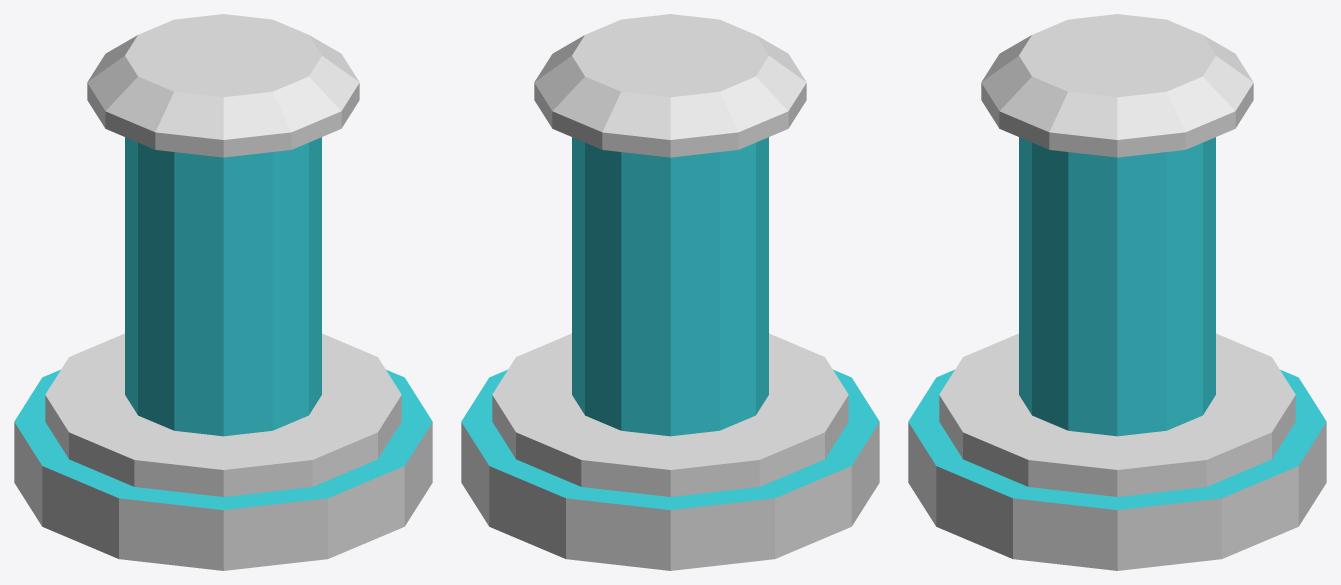
Rendered from Shoot Button.fbx.
The picture shows the model from 3 angles, left to right: view 1: azimuth 30°, elevation 25°; view 2: azimuth 150°, elevation 25°; view 3: azimuth 270°, elevation 25°; orthographic projection.
Parts seen in each view (by area): view 1: Cube.007, Cube.006; view 2: Cube.007, Cube.006; view 3: Cube.007, Cube.006.
Part boxes in pixels (x1=…): Cube.007: x1=87, y1=14, x2=359, y2=436; Cube.006: x1=14, y1=333, x2=432, y2=570; Cube.007: x1=534, y1=14, x2=806, y2=436; Cube.006: x1=461, y1=333, x2=879, y2=570; Cube.007: x1=981, y1=14, x2=1253, y2=436; Cube.006: x1=908, y1=333, x2=1326, y2=570.
Size of the model in its own units: 0.6467 by 0.7278 by 0.6467.
